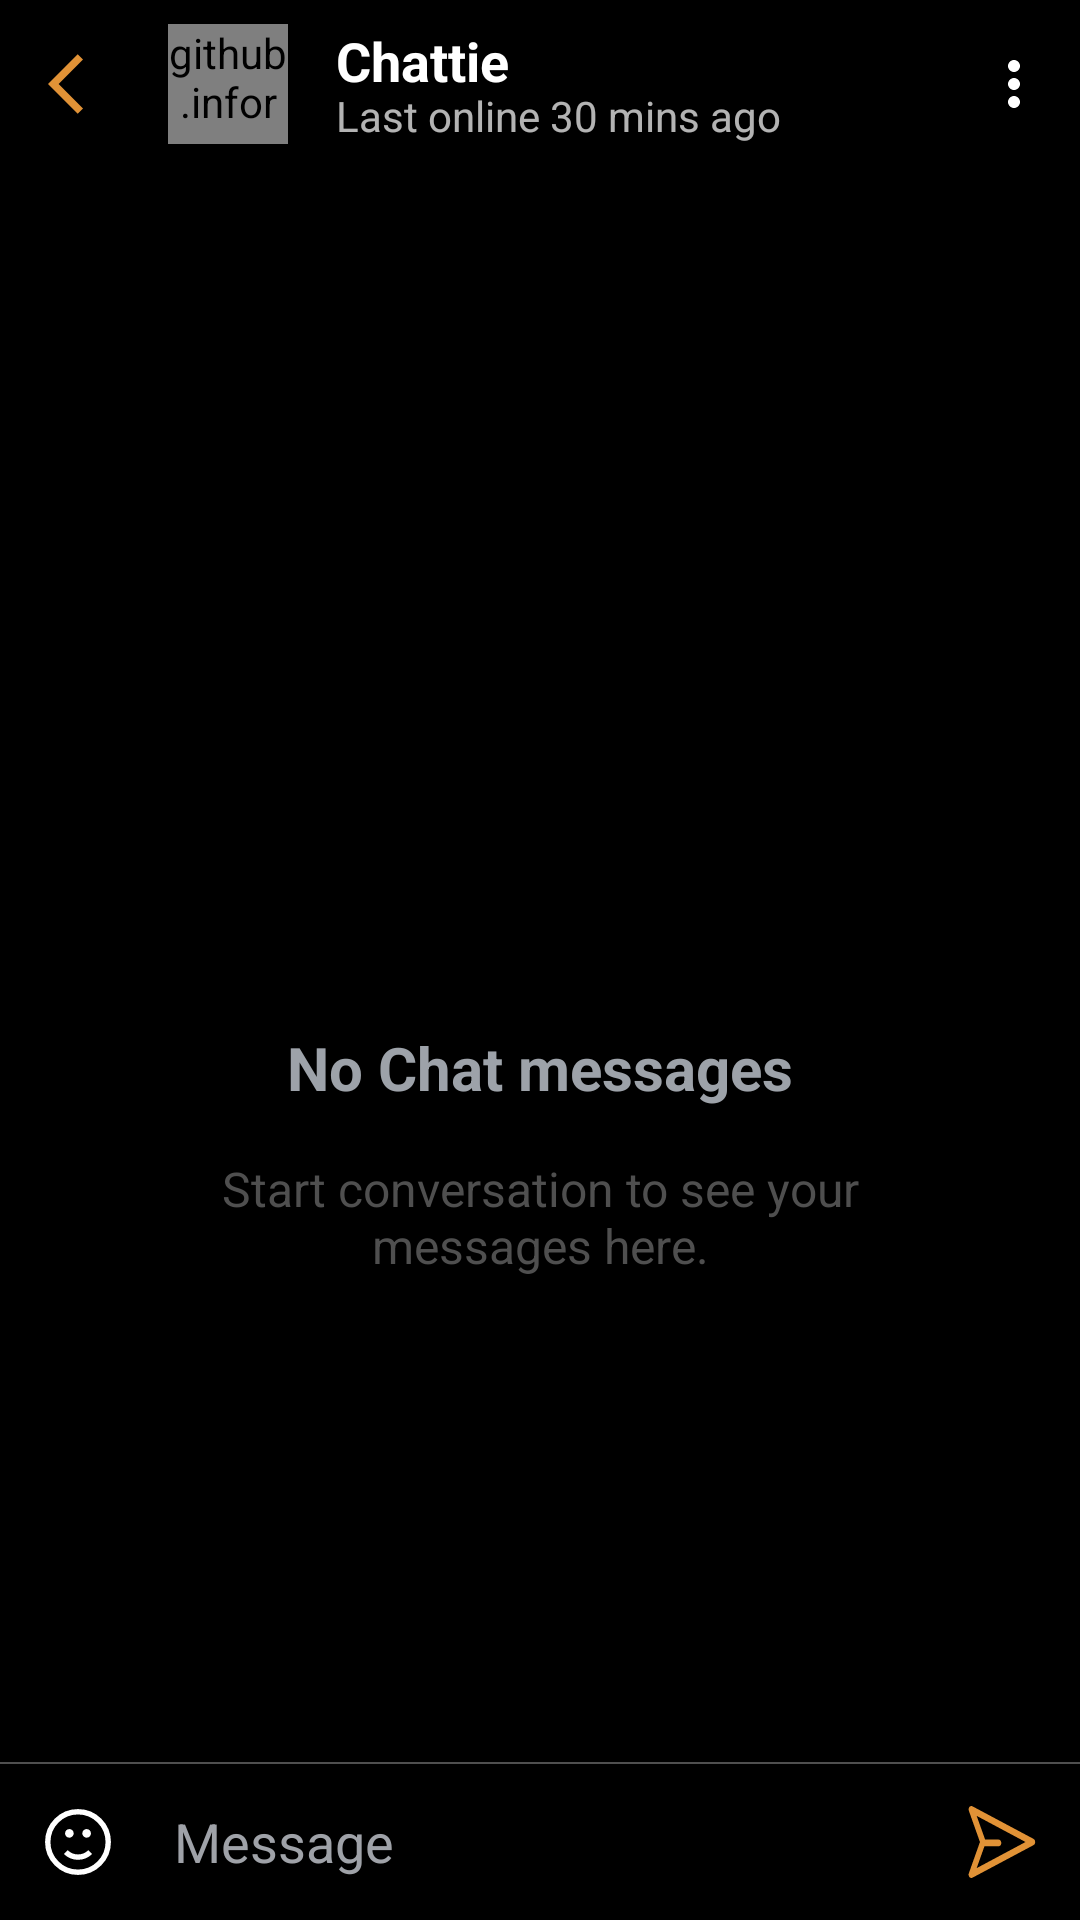

Where to tap for icons on this 1080px x 1920px app screen, as point (x, y):
reaction: point (78, 1842)
send: point (1002, 1842)
